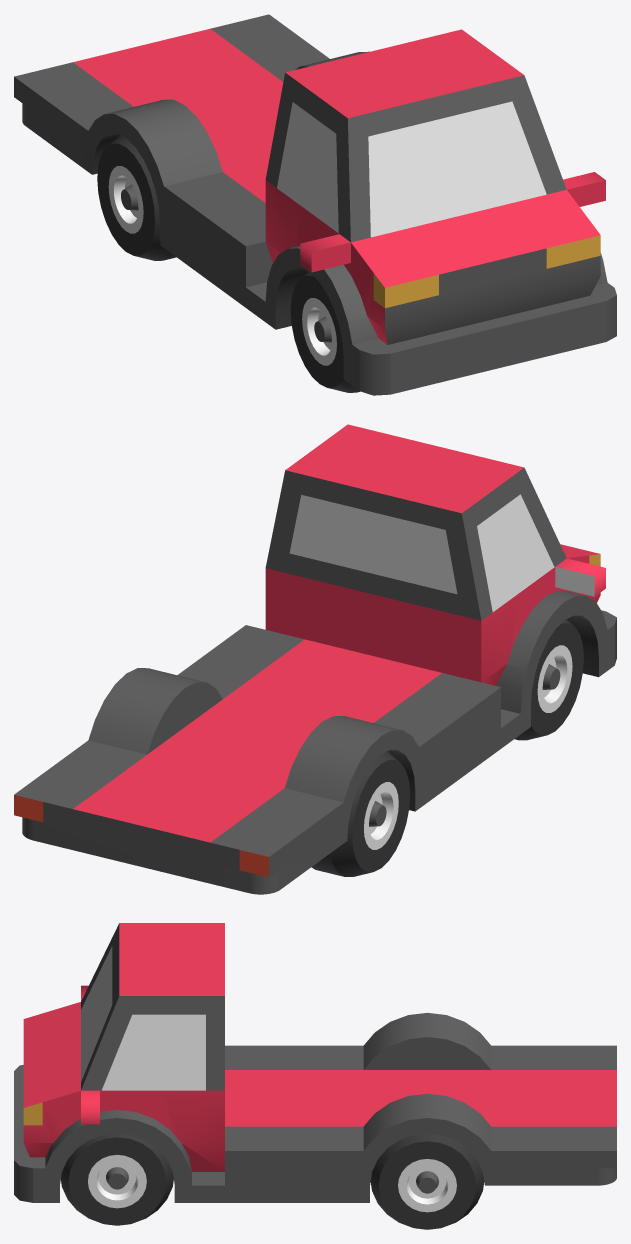
File: deliveryFlat.obj
The picture shows the model from 3 angles, top to bottom: view 1: azimuth 30°, elevation 25°; view 2: azimuth 150°, elevation 25°; view 3: azimuth 270°, elevation 25°; orthographic projection. The views are drawn at different scales.
Visible parts, largest first — view 1: body, wheel_backRight, wheel_frontRight; view 2: body, wheel_backRight, wheel_frontRight; view 3: body, wheel_backLeft, wheel_frontLeft.
Boxes of the visible parts, box(x1,y1,x2,y2) form: body: box(14, 14, 616, 395); wheel_backRight: box(97, 135, 176, 260); wheel_frontRight: box(290, 272, 360, 392); body: box(14, 424, 616, 894); wheel_backRight: box(311, 751, 410, 876); wheel_frontRight: box(514, 619, 583, 740); body: box(14, 923, 616, 1202); wheel_backLeft: box(370, 1133, 484, 1229); wheel_frontLeft: box(61, 1133, 173, 1225).
Size of the model in its own units: 1.5 by 1.3 by 3.15.
